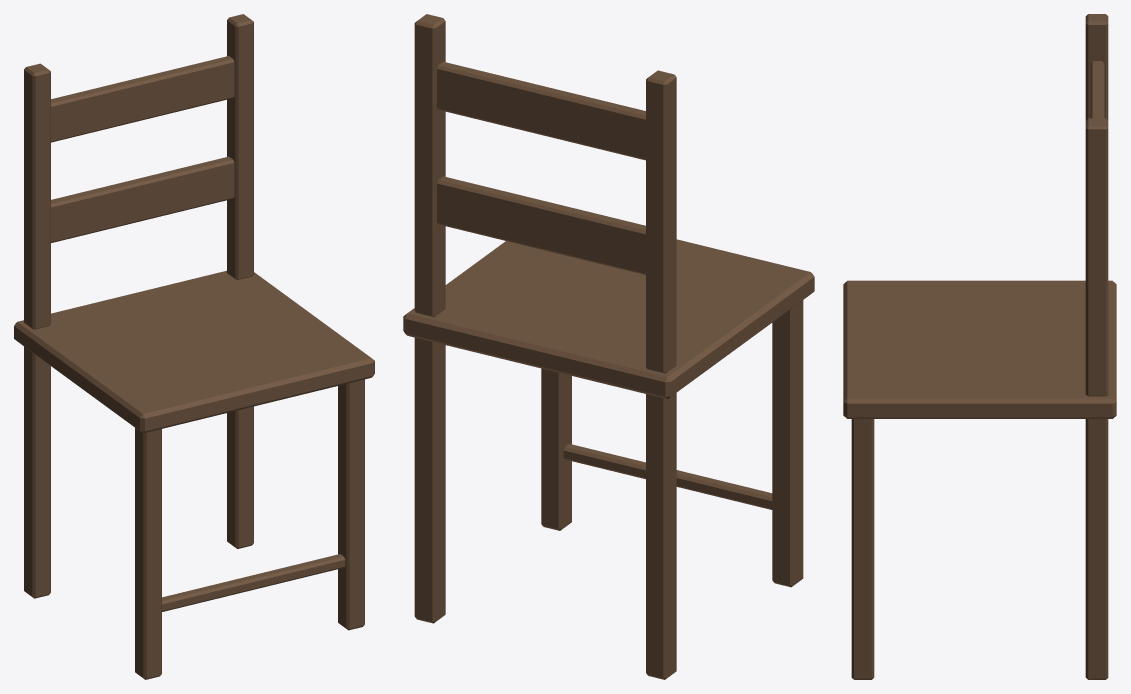
File: chair.glb
The picture shows the model from 3 angles, left to right: view 1: azimuth 30°, elevation 25°; view 2: azimuth 150°, elevation 25°; view 3: azimuth 270°, elevation 25°; orthographic projection. The views are drawn at different scales.
Visible parts, largest first — view 1: Cube.004, Cube.007, Cube.008, Cube.005, Cube, Cube.002, Cube.001, Cube.006, Cube.003, Cube.009; view 2: Cube.004, Cube.007, Cube.008, Cube.005, Cube.003, Cube, Cube.001, Cube.006, Cube.002, Cube.009; view 3: Cube.004, Cube.006, Cube.002, Cube.003, Cube.005, Cube.008.
Part boxes in pixels (x1,y1,x2,y2): Cube.004: [14, 270, 374, 433]; Cube.007: [51, 156, 234, 242]; Cube.008: [51, 56, 234, 142]; Cube.005: [24, 63, 50, 329]; Cube: [135, 428, 161, 679]; Cube.002: [338, 379, 364, 630]; Cube.001: [24, 346, 50, 598]; Cube.006: [227, 14, 253, 279]; Cube.003: [227, 406, 253, 548]; Cube.009: [162, 554, 345, 611]; Cube.004: [403, 239, 814, 399]; Cube.007: [437, 176, 645, 274]; Cube.008: [437, 61, 645, 160]; Cube.005: [646, 70, 676, 373]; Cube.003: [414, 337, 445, 623]; Cube: [772, 300, 803, 587]; Cube.001: [646, 393, 676, 679]; Cube.006: [414, 14, 445, 316]; Cube.002: [541, 368, 571, 530]; Cube.009: [563, 444, 772, 509]; Cube.004: [843, 280, 1116, 418]; Cube.006: [1085, 118, 1108, 396]; Cube.002: [851, 419, 874, 679]; Cube.003: [1085, 419, 1108, 679]; Cube.005: [1085, 14, 1108, 120]; Cube.008: [1090, 61, 1104, 118].
Size of the model in its own units: 0.44 by 0.94 by 0.42.
